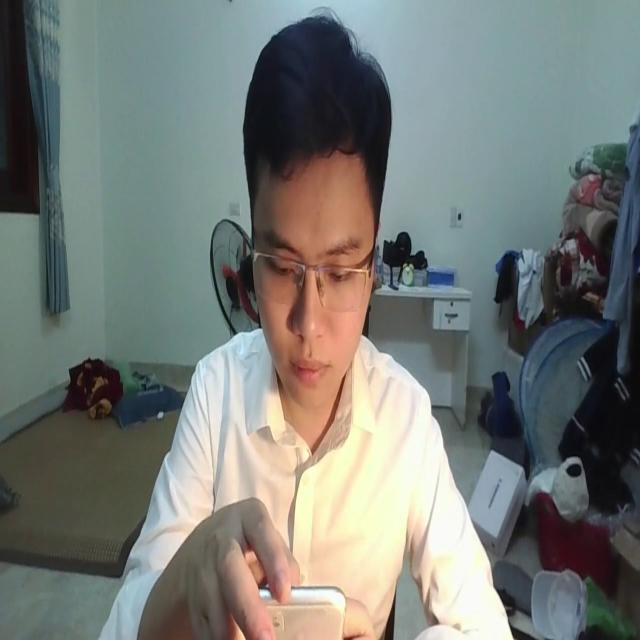phone: (246, 562, 346, 640)
student: (105, 13, 511, 640)
